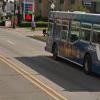Bus: (41, 3, 100, 79)
